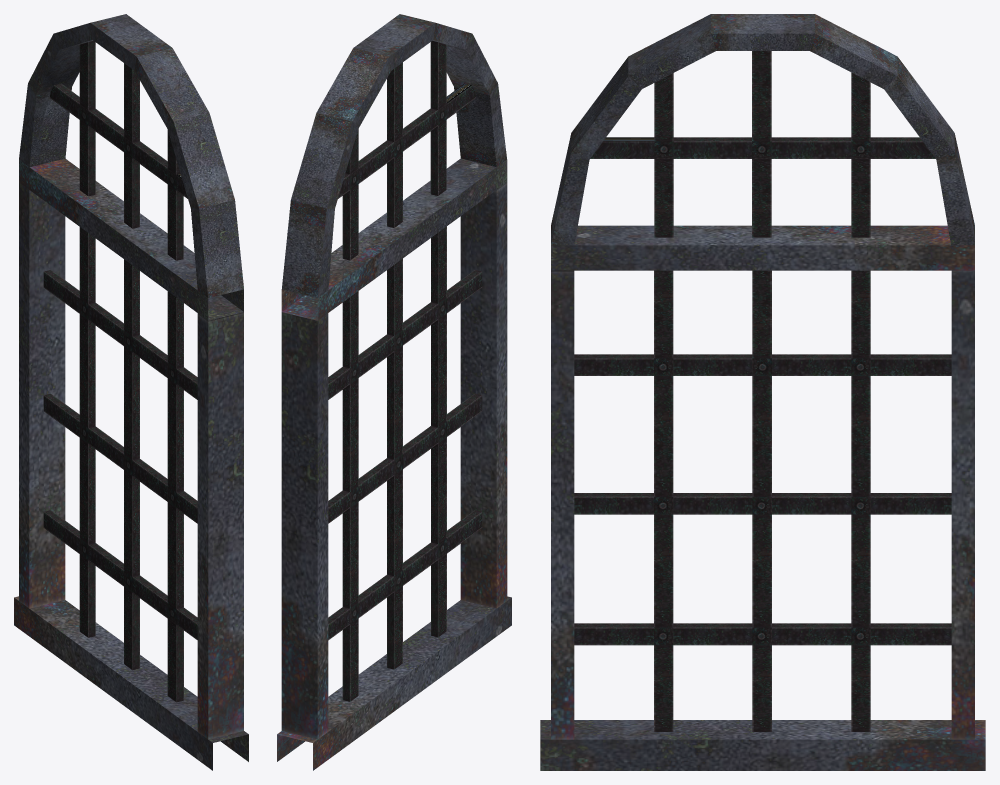
Rendered from IronWall_arch.FBX.
3 views of the same model, side by side, from view 1: azimuth 30°, elevation 25°; view 2: azimuth 150°, elevation 25°; view 3: azimuth 270°, elevation 25° (orthographic). The views are drawn at different scales.
Parts seen in each view (by area): view 1: IronWall_arch; view 2: IronWall_arch; view 3: IronWall_arch.
Part boxes in pixels (x1,y1,x2,y2): IronWall_arch: [14, 14, 248, 770]; IronWall_arch: [277, 14, 511, 770]; IronWall_arch: [540, 14, 985, 770].
Size of the model in its own units: 2.82 by 49.19 by 26.94.
